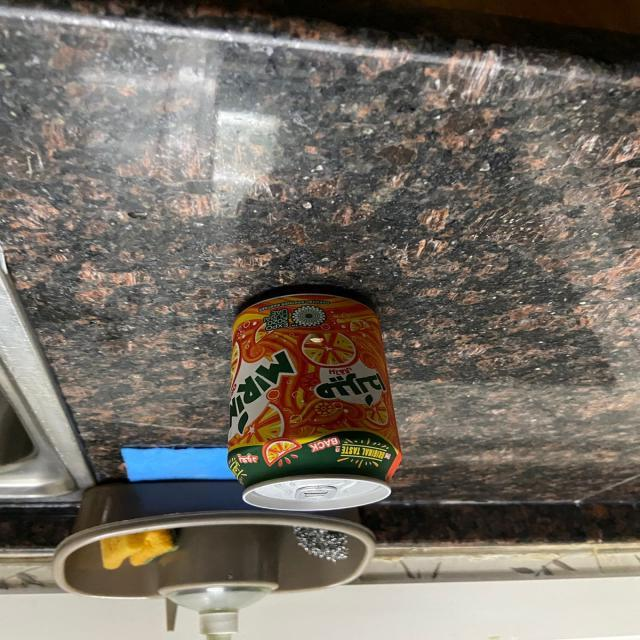can: (224, 289, 402, 513)
